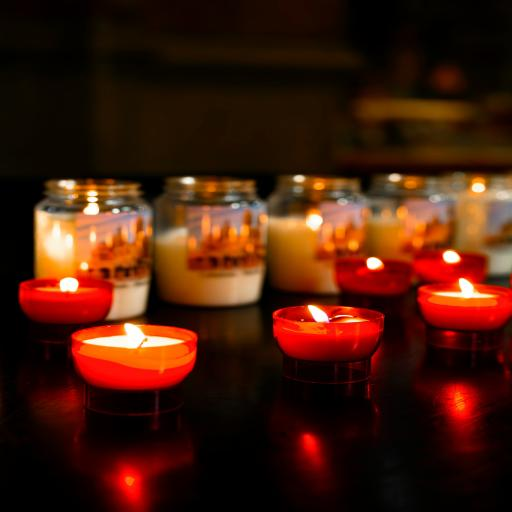candlelight: (271, 303, 385, 383), (70, 327, 196, 390), (417, 282, 512, 330), (19, 278, 114, 324), (413, 250, 488, 286)
